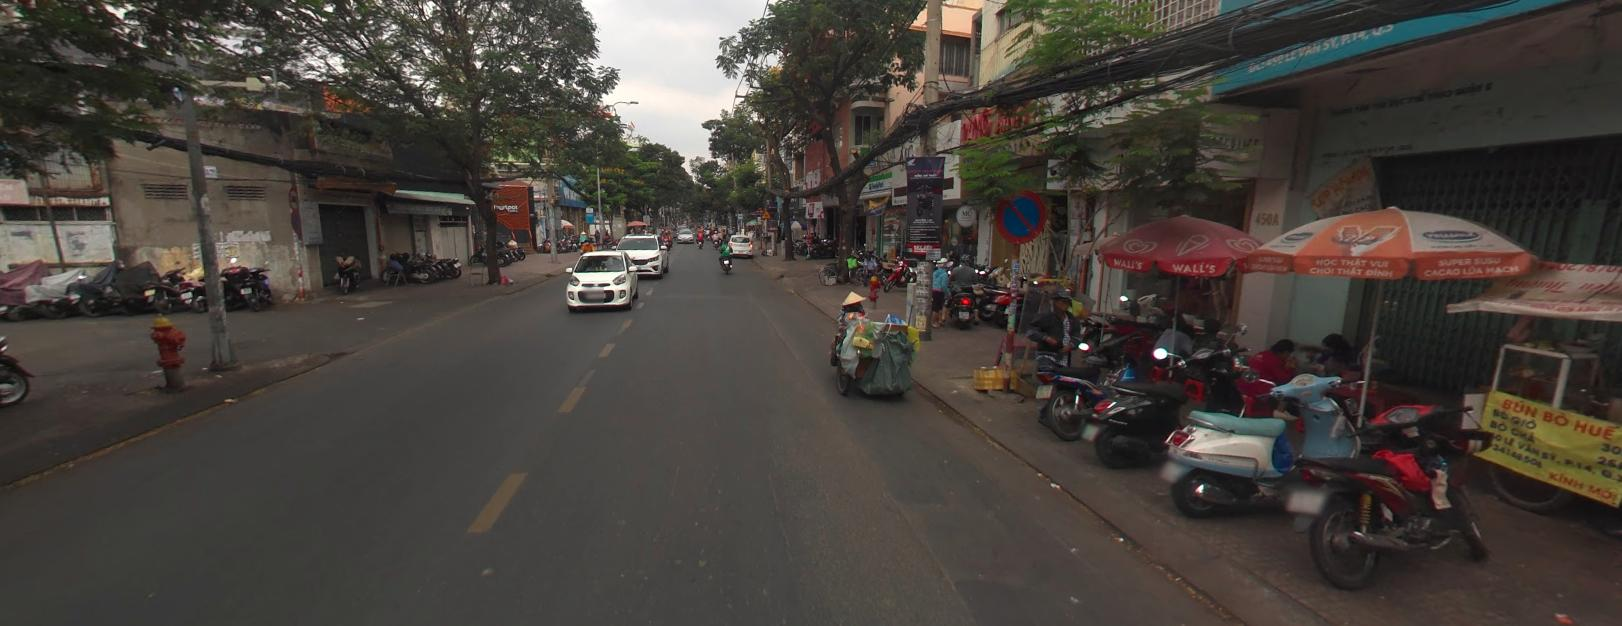Cam con lai: (286, 187, 301, 208)
Cam dung va do: (990, 186, 1050, 244), (287, 210, 302, 229)
Nguy hiem: (760, 208, 771, 217)
